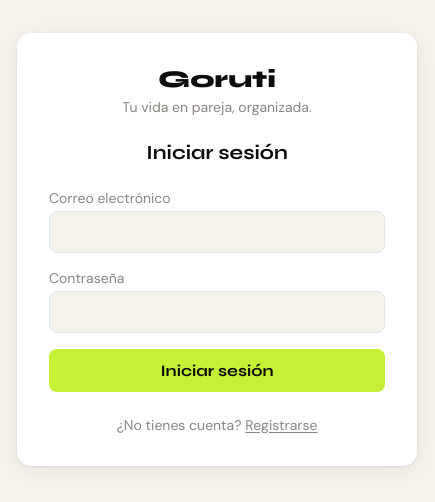
LoginPage › shows inline error on invalid credentials
Type "a@b.com" into the field labelled "Correo electrónico".
click(217, 232); type("a@b.com")  # box left=49, top=210, right=385, bottom=252
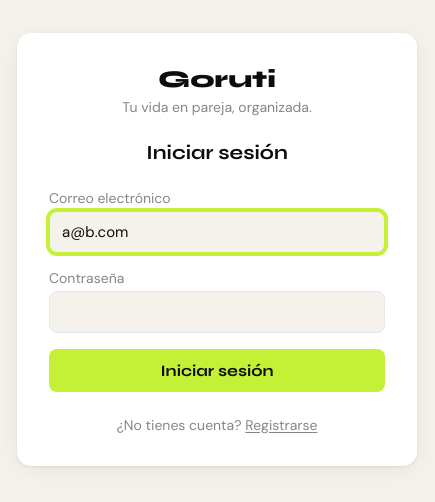
Type "wrong" into the password field labelled "Contraseña".
click(217, 312); type("wrong")  # box left=49, top=290, right=385, bottom=332
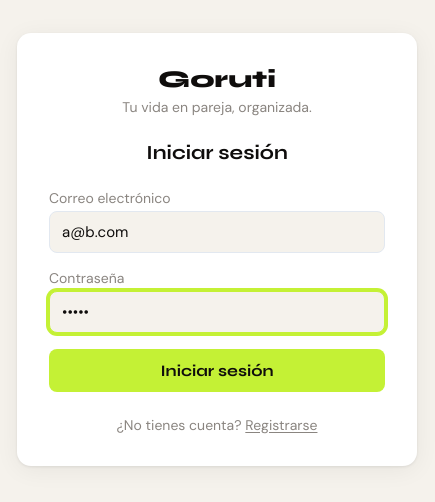
Click the button "Iniciar sesión".
click(217, 370)  # box left=49, top=348, right=385, bottom=392
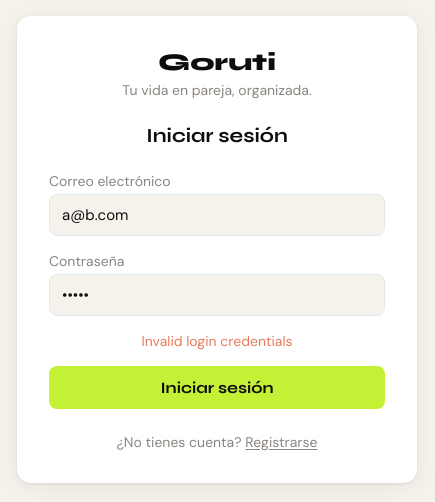
Expected: the text "Invalid login credentials" is shown, left=141, top=332, right=292, bottom=350
